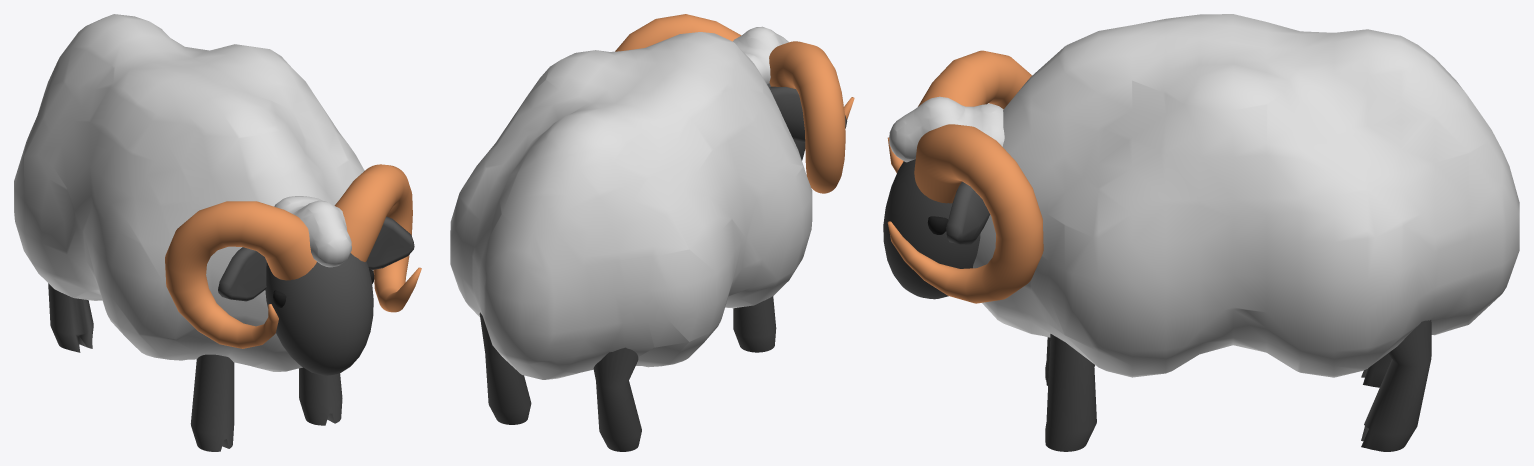
Rendered from zirkSheep.fbx.
3 views of the same model, side by side, from view 1: azimuth 30°, elevation 25°; view 2: azimuth 150°, elevation 25°; view 3: azimuth 270°, elevation 25° (orthographic). The views are drawn at different scales.
Parts seen in each view (by area): view 1: Zirk Sheep; view 2: Zirk Sheep; view 3: Zirk Sheep.
Part boxes in pixels (x1=…): Zirk Sheep: x1=14, y1=14, x2=421, y2=451; Zirk Sheep: x1=450, y1=14, x2=854, y2=451; Zirk Sheep: x1=883, y1=14, x2=1519, y2=451.
Bounding box in the file's own units: 276 × 502 × 324.
